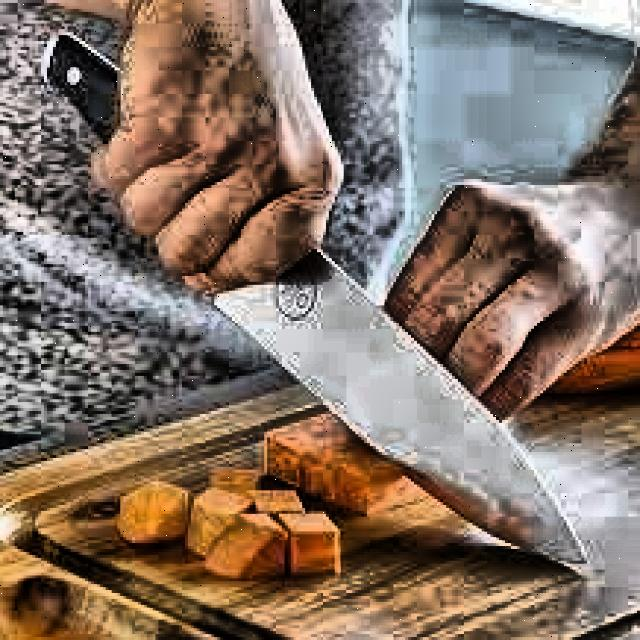knife: (45, 34, 588, 569)
